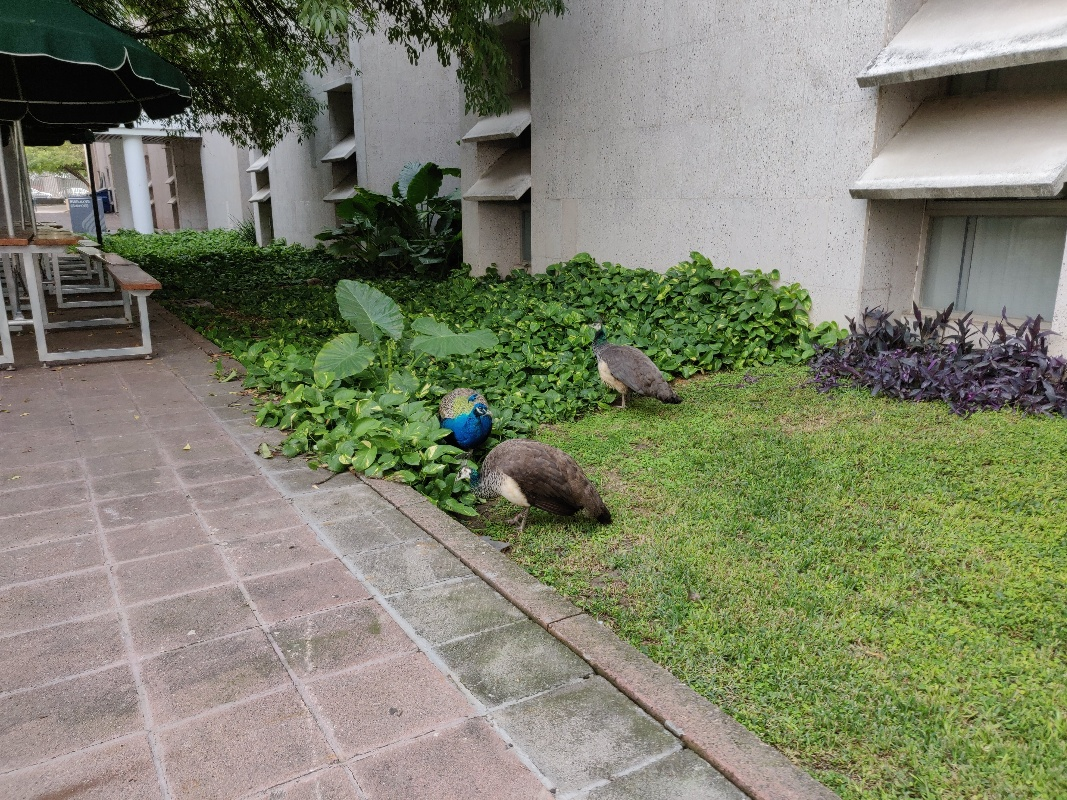pavoreal: (453, 438, 614, 529), (590, 317, 674, 411), (439, 387, 495, 449)
